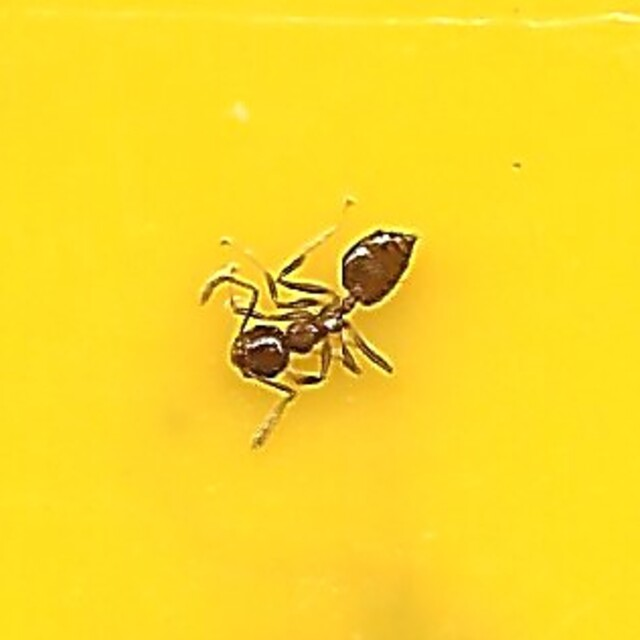Hymenoptera: (203, 211, 437, 429)
